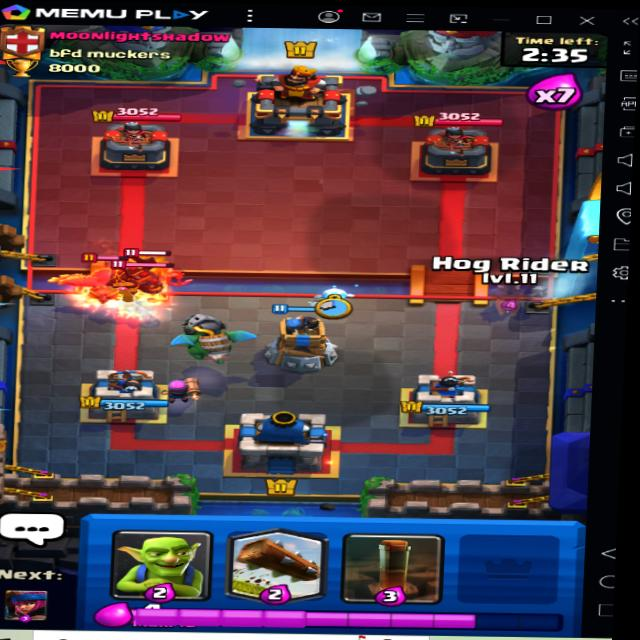lava-hound: (103, 253, 189, 298)
phoenix: (54, 251, 158, 299)
